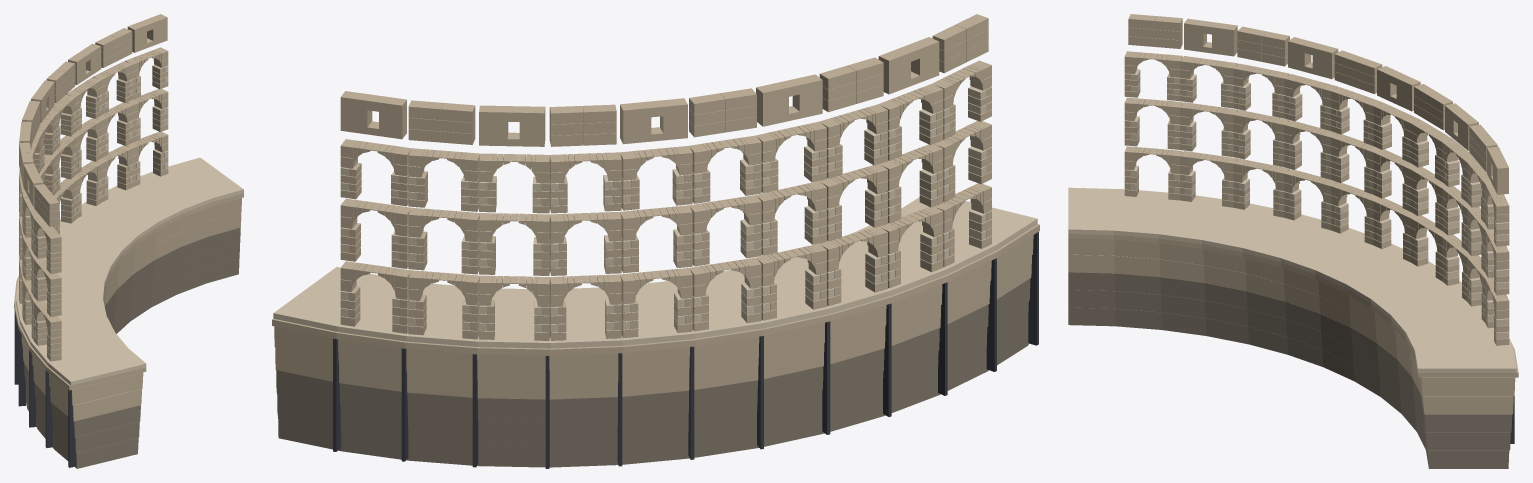
File: COL_StoneMasonry_Q3.glb
The picture shows the model from 3 angles, left to right: view 1: azimuth 30°, elevation 25°; view 2: azimuth 150°, elevation 25°; view 3: azimuth 270°, elevation 25°; orthographic projection. The views are drawn at different scales.
Parts seen in each view (by area): view 1: COL_StoneMasonry_Q3; view 2: COL_StoneMasonry_Q3; view 3: COL_StoneMasonry_Q3.
Boxes of the visible parts, x1,y1,x2,y2 form: COL_StoneMasonry_Q3: [14, 14, 243, 468]; COL_StoneMasonry_Q3: [272, 14, 1039, 468]; COL_StoneMasonry_Q3: [1068, 14, 1518, 468].
Size of the model in its own units: 128 by 91.14 by 134.
